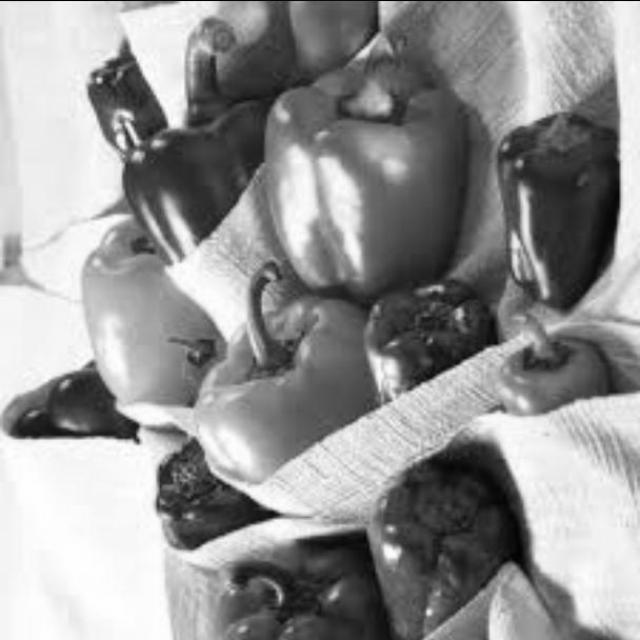bell pepper: (255, 42, 476, 310), (114, 47, 303, 267), (190, 289, 376, 507), (67, 210, 228, 428), (350, 452, 521, 640), (488, 114, 617, 311), (202, 522, 383, 640), (351, 281, 485, 424), (492, 299, 603, 436), (70, 36, 185, 162), (146, 436, 266, 556)
